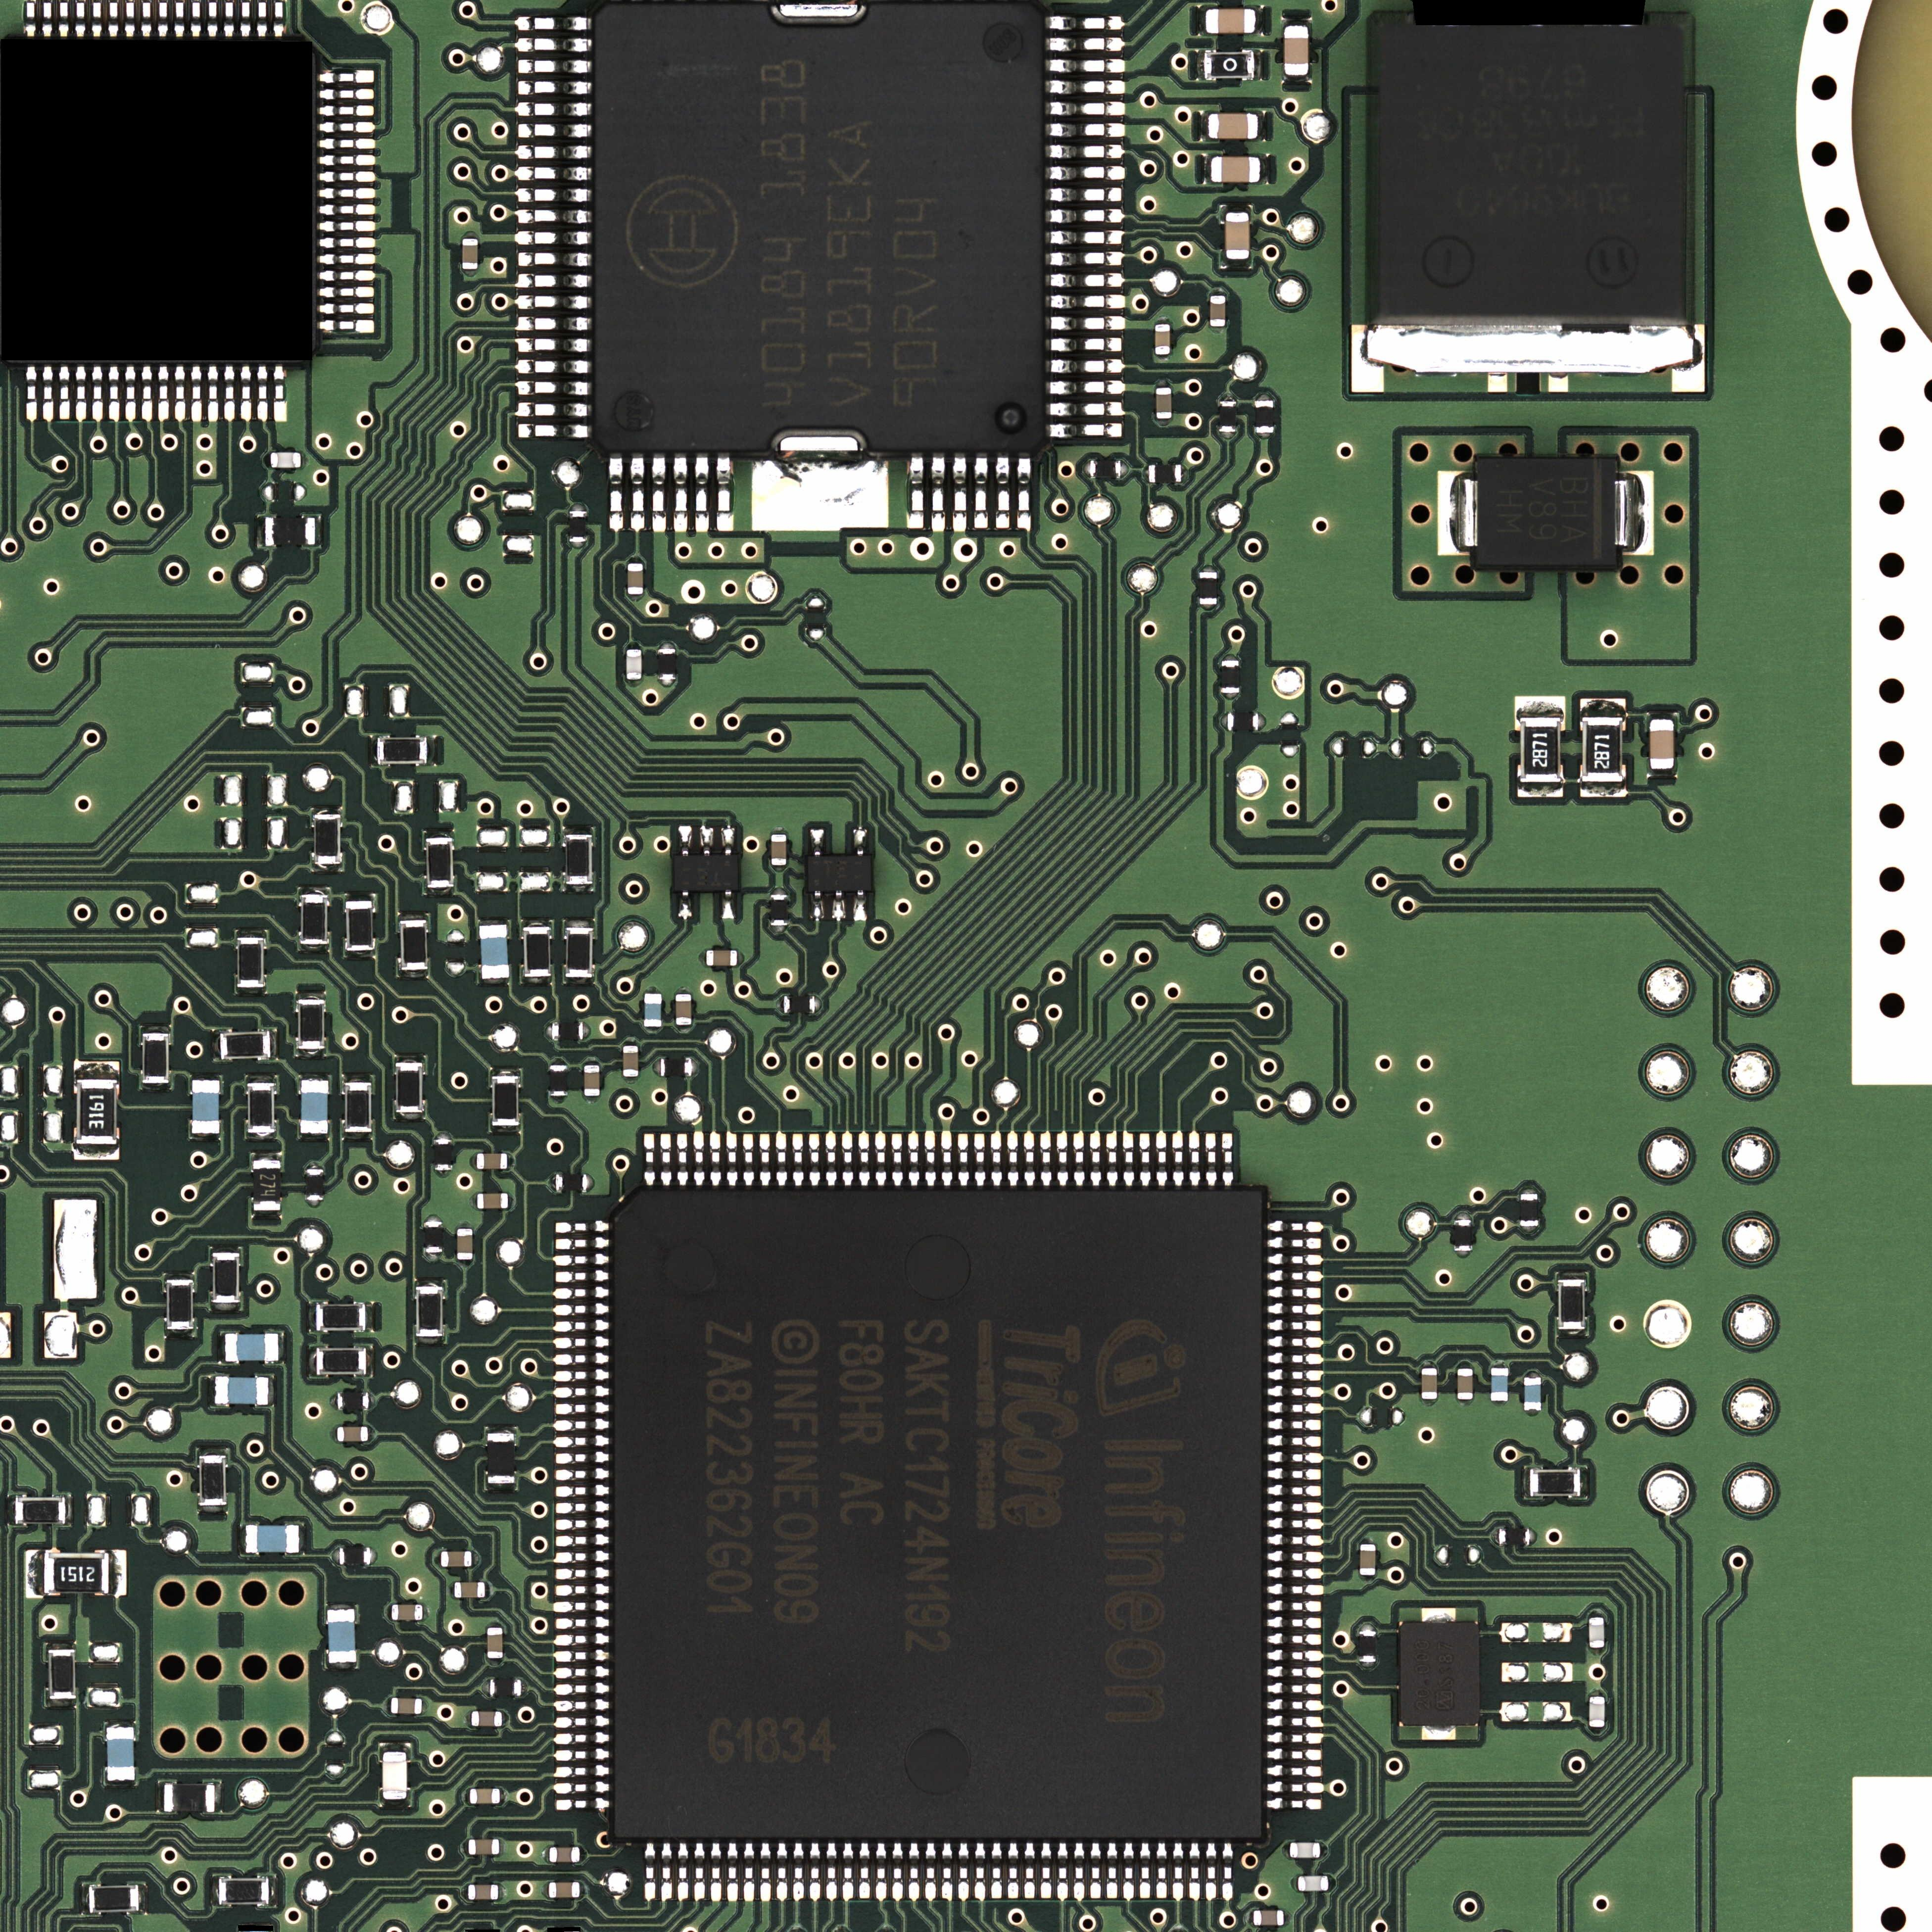Package: (612, 1191, 1263, 1838), (596, 4, 1044, 455), (1368, 12, 1693, 324), (1476, 455, 1617, 570), (1398, 1622, 1481, 1725), (44, 1552, 108, 1594), (76, 1079, 117, 1145), (1582, 717, 1622, 782), (1520, 718, 1560, 782), (672, 855, 740, 890), (807, 856, 872, 890), (214, 1376, 269, 1405), (246, 1525, 299, 1553), (106, 1727, 134, 1780), (327, 1610, 356, 1663), (225, 1334, 278, 1362), (191, 1081, 219, 1132), (481, 925, 508, 978), (265, 517, 315, 545), (165, 1783, 214, 1812), (253, 1161, 281, 1210), (487, 1433, 515, 1483), (301, 1081, 327, 1132), (377, 738, 426, 764), (301, 895, 327, 945), (347, 901, 373, 950), (426, 839, 453, 888), (212, 1253, 239, 1302), (219, 1877, 269, 1904), (317, 1304, 366, 1330), (524, 927, 550, 977), (16, 1497, 65, 1523), (166, 1279, 193, 1329), (492, 1076, 518, 1125), (317, 1348, 366, 1375), (248, 1083, 274, 1132), (1205, 53, 1254, 80), (1210, 156, 1260, 182), (1208, 113, 1258, 140), (1530, 1470, 1580, 1497), (1559, 1279, 1585, 1329), (1205, 9, 1256, 34), (566, 929, 593, 977), (402, 920, 426, 970), (566, 835, 591, 885), (315, 814, 340, 863), (396, 1063, 421, 1113), (88, 1886, 138, 1911), (239, 938, 264, 987), (299, 1000, 324, 1049), (143, 1033, 168, 1083), (50, 1649, 74, 1698), (418, 1286, 442, 1336), (345, 1083, 370, 1132), (221, 1033, 271, 1058), (200, 1456, 225, 1506), (1649, 720, 1674, 770), (382, 1752, 407, 1799), (1284, 27, 1309, 74), (1226, 212, 1249, 260), (1221, 660, 1240, 694), (1198, 571, 1217, 605), (1254, 400, 1274, 433), (1520, 1192, 1539, 1226), (1148, 465, 1182, 483), (1359, 1629, 1376, 1663), (770, 893, 787, 925), (644, 994, 662, 1026), (660, 1058, 692, 1076), (425, 1221, 442, 1253), (552, 1023, 584, 1040), (784, 996, 816, 1014), (1228, 713, 1260, 731), (1523, 1378, 1541, 1410), (1454, 1219, 1472, 1251), (556, 1173, 587, 1191), (1491, 1368, 1507, 1401), (658, 649, 676, 679), (340, 1546, 370, 1564), (306, 1169, 324, 1200), (490, 1679, 520, 1697), (338, 1392, 368, 1410), (1090, 460, 1120, 478), (1219, 402, 1237, 432), (628, 563, 644, 594), (706, 950, 738, 966), (570, 511, 586, 543), (391, 1605, 423, 1621), (548, 1882, 580, 1898), (476, 1154, 508, 1169), (471, 1711, 502, 1727), (469, 1789, 501, 1805), (623, 1046, 639, 1077), (1210, 295, 1226, 327), (1421, 1368, 1437, 1399), (1253, 1909, 1284, 1925), (1361, 1545, 1376, 1576), (1499, 1529, 1530, 1545), (1458, 1368, 1474, 1399), (771, 835, 787, 865), (462, 239, 478, 269), (626, 649, 642, 679), (487, 1628, 502, 1658), (391, 1698, 421, 1714), (676, 994, 692, 1024), (550, 1847, 580, 1863), (584, 1065, 600, 1095), (478, 1192, 508, 1208), (550, 1065, 566, 1095), (455, 1582, 485, 1598), (469, 1838, 499, 1854), (456, 1230, 472, 1260), (441, 1552, 471, 1568), (338, 1426, 368, 1442), (469, 1884, 499, 1900), (435, 1139, 451, 1169), (1589, 1617, 1605, 1647), (1589, 1697, 1605, 1727), (1290, 1842, 1320, 1858), (1299, 1875, 1329, 1891), (1157, 387, 1171, 419), (271, 453, 301, 467), (1155, 324, 1169, 354)
Solder: (1353, 324, 1704, 393), (752, 458, 888, 527), (1437, 471, 1477, 556), (1617, 471, 1654, 556), (715, 456, 736, 533), (513, 122, 593, 142), (513, 143, 591, 163), (515, 379, 593, 398), (515, 400, 593, 419), (1046, 35, 1127, 53), (1046, 78, 1127, 96), (1046, 357, 1127, 375), (513, 14, 593, 32), (513, 35, 593, 53), (513, 101, 593, 119), (513, 251, 593, 269), (1046, 57, 1125, 74), (1046, 143, 1125, 161), (1046, 186, 1125, 203), (1047, 379, 1127, 396), (513, 57, 591, 74), (513, 80, 591, 97), (515, 165, 593, 182), (513, 186, 591, 203), (515, 209, 593, 226), (515, 230, 593, 248), (515, 272, 593, 290), (515, 294, 593, 311), (515, 315, 593, 333), (515, 336, 593, 354), (515, 357, 593, 375), (515, 421, 593, 439), (607, 456, 625, 533), (628, 456, 646, 533), (649, 456, 667, 533), (671, 456, 688, 533), (694, 456, 711, 533), (1016, 456, 1033, 533), (1046, 230, 1127, 246), (1046, 251, 1127, 267), (1046, 294, 1127, 310), (1046, 315, 1127, 331), (1046, 402, 1127, 418), (1046, 423, 1127, 439), (994, 456, 1012, 529), (1046, 14, 1125, 30), (1046, 101, 1125, 117), (1046, 122, 1125, 138), (1046, 165, 1125, 180), (1046, 209, 1125, 225), (1046, 272, 1125, 288), (908, 456, 925, 527), (952, 456, 968, 534), (1046, 336, 1123, 352), (931, 456, 947, 533), (973, 456, 989, 529), (318, 67, 375, 85), (1514, 697, 1566, 717), (25, 1550, 44, 1599), (272, 364, 288, 423), (318, 318, 377, 334), (317, 120, 377, 134), (318, 203, 379, 218), (318, 269, 379, 283), (318, 136, 377, 150), (318, 253, 377, 267), (1580, 699, 1626, 717), (554, 1748, 610, 1762), (25, 366, 39, 423), (41, 366, 55, 423), (74, 366, 88, 423), (124, 364, 138, 421), (106, 366, 120, 423), (90, 364, 104, 421), (140, 364, 154, 421), (189, 364, 203, 421), (173, 366, 188, 423), (255, 364, 269, 421), (221, 364, 235, 421), (74, 1062, 119, 1079), (554, 1401, 609, 1415), (554, 1435, 609, 1449), (1267, 1714, 1322, 1729), (1267, 1500, 1322, 1514), (73, 1145, 120, 1161), (1580, 782, 1628, 798), (908, 1842, 920, 1902), (318, 287, 379, 299), (318, 303, 379, 315), (110, 1550, 126, 1596), (1518, 782, 1564, 798), (858, 1842, 870, 1900), (743, 1844, 755, 1902), (957, 1844, 970, 1902), (1205, 1844, 1217, 1902), (1106, 1842, 1118, 1900), (1090, 1842, 1102, 1900), (991, 1842, 1003, 1900), (318, 154, 377, 166), (318, 170, 377, 182), (318, 188, 377, 200), (318, 219, 377, 232), (318, 237, 377, 249), (924, 1131, 936, 1187), (554, 1732, 610, 1744), (554, 1633, 610, 1645), (554, 1716, 610, 1729), (554, 1667, 610, 1679), (554, 1649, 610, 1661), (554, 1683, 610, 1695), (694, 1844, 706, 1900), (644, 1844, 656, 1900), (1267, 1221, 1323, 1233), (1267, 1352, 1323, 1364), (1267, 1369, 1323, 1382), (1106, 1131, 1118, 1187), (1007, 1131, 1019, 1187), (1267, 1401, 1323, 1414), (1267, 1385, 1323, 1398), (1267, 1550, 1323, 1562), (1267, 1534, 1323, 1546), (1155, 1844, 1168, 1900), (1056, 1844, 1069, 1900), (58, 366, 71, 423), (157, 366, 170, 423), (207, 364, 219, 421), (239, 364, 251, 421), (318, 88, 375, 101), (318, 104, 375, 117), (874, 1132, 886, 1187), (858, 1131, 870, 1185), (554, 1320, 609, 1332), (554, 1304, 609, 1316), (554, 1336, 609, 1348), (554, 1286, 609, 1299), (554, 1254, 609, 1267), (554, 1353, 609, 1366), (725, 1132, 738, 1187), (957, 1132, 970, 1187), (554, 1385, 609, 1398), (554, 1369, 609, 1382), (554, 1419, 609, 1431), (554, 1601, 609, 1614), (556, 1617, 610, 1629), (556, 1552, 610, 1564), (556, 1534, 610, 1546), (556, 1518, 610, 1530), (556, 1502, 610, 1514), (556, 1484, 610, 1497), (554, 1782, 609, 1794), (554, 1766, 609, 1778), (1267, 1237, 1322, 1249), (1267, 1253, 1322, 1265), (1267, 1336, 1322, 1348), (1267, 1270, 1322, 1283), (1267, 1320, 1322, 1332), (1267, 1286, 1322, 1299), (1267, 1302, 1322, 1315), (1155, 1131, 1168, 1185), (1267, 1419, 1322, 1431), (1023, 1131, 1035, 1185), (1056, 1131, 1069, 1185), (1267, 1617, 1322, 1629), (1267, 1599, 1322, 1612), (1267, 1633, 1322, 1645), (1267, 1649, 1322, 1661), (1267, 1748, 1322, 1760), (1267, 1732, 1322, 1744), (1267, 1665, 1322, 1677), (1267, 1583, 1322, 1596), (1267, 1683, 1322, 1695), (1267, 1698, 1322, 1711), (1267, 1764, 1322, 1776), (1267, 1518, 1322, 1530), (1267, 1484, 1322, 1497), (1267, 1468, 1322, 1481), (1007, 1844, 1019, 1898), (1267, 1798, 1322, 1810), (1267, 1435, 1322, 1447), (1267, 1451, 1322, 1463), (1267, 1782, 1322, 1794), (1040, 1844, 1053, 1898), (824, 1132, 837, 1185), (556, 1221, 609, 1233), (556, 1237, 609, 1249), (556, 1270, 609, 1283), (775, 1132, 787, 1185), (709, 1132, 722, 1185), (556, 1583, 609, 1596), (556, 1568, 609, 1580), (556, 1798, 609, 1810), (556, 1468, 609, 1481), (556, 1453, 609, 1465), (1205, 1132, 1217, 1185), (892, 1842, 902, 1902), (925, 1842, 936, 1902), (941, 1842, 952, 1902), (711, 1842, 722, 1902), (759, 1134, 771, 1185), (660, 1134, 672, 1185), (973, 1134, 985, 1185), (826, 1844, 837, 1902), (810, 1844, 821, 1902), (793, 1844, 803, 1902), (842, 1842, 853, 1900), (876, 1842, 886, 1900), (777, 1844, 787, 1902), (761, 1844, 771, 1902), (727, 1844, 738, 1902), (1223, 1844, 1233, 1902), (1139, 1842, 1150, 1900), (1123, 1842, 1134, 1900), (908, 1131, 918, 1187), (941, 1131, 952, 1187), (554, 1700, 610, 1711), (662, 1844, 672, 1900), (678, 1844, 688, 1900), (1123, 1131, 1134, 1187), (1189, 1844, 1200, 1900), (1173, 1844, 1184, 1900), (975, 1844, 985, 1900), (1074, 1844, 1085, 1900), (842, 1131, 853, 1185), (1189, 1131, 1200, 1185), (1173, 1131, 1184, 1185), (991, 1131, 1001, 1185), (1074, 1131, 1085, 1185), (1090, 1131, 1100, 1185), (1040, 1131, 1051, 1185), (1267, 1568, 1322, 1578), (1024, 1844, 1035, 1898), (809, 1132, 819, 1185), (892, 1132, 902, 1185), (793, 1132, 803, 1185), (743, 1132, 754, 1185), (694, 1132, 704, 1185), (1223, 1132, 1233, 1185), (1139, 1132, 1150, 1185), (678, 1134, 688, 1185), (644, 1134, 655, 1185), (1421, 1725, 1456, 1739), (1421, 1608, 1456, 1621), (853, 890, 867, 920), (810, 828, 824, 856), (810, 892, 824, 920), (832, 892, 846, 920), (679, 824, 692, 856), (678, 892, 692, 918), (853, 828, 867, 855), (722, 890, 734, 920), (722, 826, 734, 855), (701, 826, 713, 855), (426, 734, 437, 766), (1194, 50, 1205, 81), (1260, 154, 1270, 184), (1198, 111, 1208, 142), (396, 970, 430, 978), (207, 1375, 216, 1408), (7, 1493, 16, 1527), (64, 1493, 73, 1527), (488, 1125, 522, 1134), (235, 929, 267, 938), (341, 1074, 373, 1083), (212, 1030, 221, 1062), (246, 1074, 278, 1083), (414, 1277, 446, 1286), (379, 1743, 410, 1752), (196, 1506, 228, 1514), (196, 1447, 228, 1456), (379, 1799, 410, 1808), (326, 1661, 357, 1670), (138, 1882, 147, 1914), (563, 885, 594, 893), (490, 1067, 522, 1076), (485, 1483, 517, 1491), (1258, 110, 1267, 142), (1221, 260, 1253, 269), (1647, 711, 1679, 720), (1557, 1329, 1589, 1338), (1522, 1467, 1530, 1499), (1580, 1467, 1589, 1499), (398, 911, 428, 920), (299, 945, 329, 954), (295, 1049, 326, 1058), (364, 1302, 373, 1332), (165, 1330, 195, 1339), (251, 1210, 281, 1219), (295, 991, 326, 1000), (308, 1346, 317, 1376), (140, 1024, 170, 1033), (211, 1302, 241, 1311), (345, 950, 375, 959), (156, 1782, 165, 1812), (214, 1782, 223, 1812), (563, 826, 593, 835), (564, 918, 594, 927), (522, 918, 552, 927), (1201, 154, 1210, 184), (1196, 5, 1205, 35), (1256, 5, 1265, 35), (1221, 203, 1251, 212), (1254, 50, 1263, 80), (48, 1698, 76, 1707), (1283, 16, 1311, 25), (1283, 76, 1311, 85), (297, 886, 331, 893), (311, 865, 345, 872), (81, 1882, 88, 1916), (257, 515, 264, 547), (370, 734, 377, 766), (423, 830, 455, 837), (311, 807, 343, 814), (315, 515, 322, 547), (414, 1338, 446, 1345), (278, 1332, 285, 1364), (271, 1028, 278, 1060), (269, 1875, 276, 1907), (104, 1780, 136, 1787), (485, 1426, 517, 1433), (345, 893, 375, 901), (425, 888, 455, 895), (165, 1272, 195, 1279), (235, 987, 265, 994), (310, 1302, 317, 1332), (343, 1132, 373, 1139), (395, 1054, 425, 1062), (395, 1113, 425, 1120), (246, 1132, 276, 1139), (366, 1346, 373, 1376), (211, 1246, 241, 1253), (251, 1152, 281, 1159), (299, 1072, 329, 1079), (326, 1603, 356, 1610), (212, 1875, 219, 1905), (239, 1525, 246, 1555), (46, 1642, 76, 1649), (104, 1720, 134, 1727), (479, 918, 510, 925), (522, 977, 552, 984), (564, 977, 594, 984), (1647, 770, 1677, 777), (1557, 1272, 1587, 1279), (142, 1083, 170, 1090), (297, 1134, 329, 1139), (189, 1134, 221, 1139), (269, 1375, 274, 1407), (191, 1074, 221, 1079), (219, 1332, 225, 1362), (299, 1525, 304, 1555), (479, 978, 510, 984), (481, 1679, 490, 1697), (771, 886, 789, 895), (570, 502, 587, 511), (770, 925, 787, 934), (548, 1095, 566, 1104), (644, 985, 662, 994), (520, 1679, 529, 1697), (1120, 460, 1129, 478), (456, 1221, 472, 1230), (435, 1169, 451, 1178), (331, 1548, 340, 1564), (460, 1840, 469, 1856), (370, 1548, 379, 1564), (460, 1884, 469, 1900), (487, 1658, 502, 1667), (329, 1426, 338, 1442), (628, 556, 644, 564), (584, 1095, 600, 1104), (582, 1023, 591, 1039), (541, 1847, 550, 1863), (1210, 287, 1226, 295), (1219, 713, 1228, 729), (1320, 1842, 1329, 1858), (1589, 1727, 1605, 1736), (1589, 1688, 1605, 1697), (1520, 1226, 1539, 1233), (425, 1253, 442, 1260), (425, 1214, 442, 1221), (570, 541, 587, 548), (658, 678, 676, 685), (653, 1058, 660, 1076), (692, 1058, 699, 1076), (816, 996, 823, 1014), (644, 1026, 662, 1033), (1256, 432, 1274, 439), (1256, 393, 1274, 400), (1154, 354, 1171, 361), (1219, 432, 1237, 439), (1083, 460, 1090, 478), (1141, 465, 1148, 483), (1182, 465, 1189, 483), (1219, 395, 1237, 402), (1221, 653, 1238, 660), (1221, 694, 1238, 701), (1200, 564, 1217, 571), (1421, 1399, 1438, 1407), (1359, 1663, 1376, 1670), (1359, 1622, 1376, 1629), (1283, 1911, 1292, 1925), (1491, 1361, 1509, 1368), (1454, 1251, 1472, 1258), (1454, 1212, 1472, 1219), (1456, 1399, 1474, 1407), (1523, 1410, 1541, 1417), (1490, 1401, 1507, 1408), (462, 232, 478, 239), (462, 269, 478, 276), (264, 451, 271, 467), (469, 1154, 476, 1169), (471, 1192, 478, 1208), (456, 1260, 472, 1267), (306, 1200, 322, 1207), (435, 1132, 451, 1139), (423, 1605, 430, 1621), (485, 1582, 492, 1598), (448, 1582, 455, 1598), (465, 1711, 472, 1727), (487, 1621, 502, 1628), (368, 1426, 375, 1442), (499, 1838, 506, 1854), (738, 950, 745, 966), (699, 950, 706, 966), (658, 642, 674, 649), (508, 1192, 515, 1208), (676, 1024, 692, 1031), (508, 1154, 515, 1169), (587, 1175, 594, 1191), (584, 1058, 600, 1065), (676, 987, 692, 994), (548, 1175, 556, 1191), (623, 1039, 639, 1046), (623, 1076, 639, 1083), (545, 1023, 552, 1039), (550, 1058, 566, 1065), (777, 996, 784, 1012), (580, 1882, 587, 1898), (541, 1882, 548, 1898), (502, 1711, 510, 1727), (499, 1884, 506, 1900), (501, 1789, 508, 1805), (1155, 317, 1171, 324), (1210, 327, 1226, 334), (1155, 380, 1171, 387), (1421, 1361, 1437, 1368), (1283, 1842, 1290, 1858), (1329, 1875, 1336, 1891), (1359, 1575, 1375, 1582), (1292, 1875, 1299, 1891), (1525, 1371, 1541, 1378), (1458, 1361, 1474, 1368), (1589, 1647, 1605, 1654), (1530, 1529, 1537, 1545), (1589, 1610, 1605, 1617), (771, 826, 787, 833), (301, 453, 308, 467), (421, 1698, 428, 1713), (433, 1552, 441, 1566), (386, 1605, 393, 1619), (472, 1552, 479, 1566), (462, 1789, 469, 1803), (384, 1698, 391, 1713), (626, 642, 640, 649), (580, 1847, 587, 1861), (1260, 715, 1267, 729), (1246, 1911, 1253, 1925), (1361, 1537, 1375, 1545), (370, 1392, 375, 1410), (1155, 419, 1173, 425), (1200, 605, 1217, 610), (1520, 1187, 1537, 1192), (306, 1162, 322, 1168), (771, 865, 787, 870), (628, 594, 644, 600), (626, 679, 642, 685), (1493, 1529, 1499, 1545), (331, 1392, 336, 1408)
